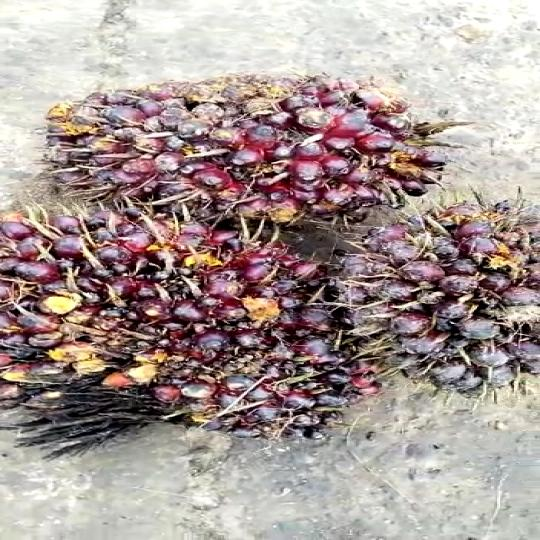kurang masak: (0, 200, 355, 462), (20, 79, 470, 253), (308, 199, 540, 411)
